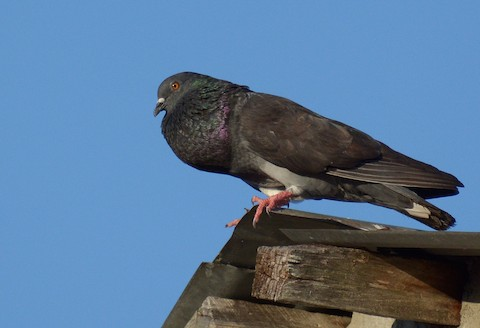pigeon: (151, 68, 466, 233)
